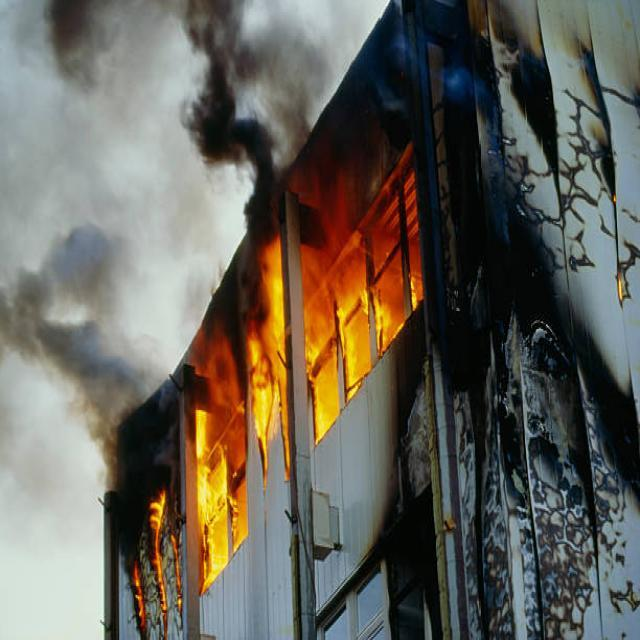Fire: (240, 242, 380, 428), (138, 422, 249, 572), (330, 147, 418, 329)
Smoke: (43, 0, 314, 210), (9, 215, 138, 418)
